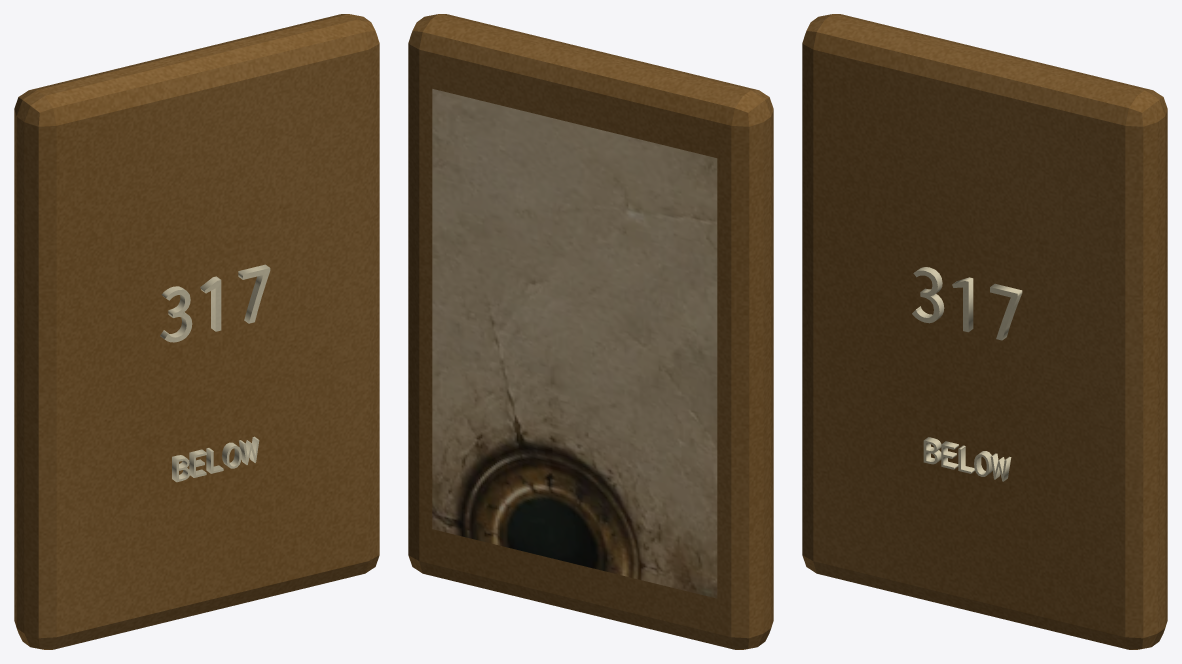
File: threshold-impression.glb
3 views of the same model, side by side, from view 1: azimuth 30°, elevation 25°; view 2: azimuth 150°, elevation 25°; view 3: azimuth 330°, elevation 25° (orthographic).
Parts seen in each view (by area): view 1: Threshold memory backing, Key_Threshold_Impression / Ivory enamel; view 2: Threshold original tag reverse, Threshold memory backing; view 3: Threshold memory backing, Key_Threshold_Impression / Ivory enamel.
Boxes of the visible parts, box(x1,y1,x2,y2) form: Threshold memory backing: box(14, 14, 379, 649); Key_Threshold_Impression / Ivory enamel: box(160, 264, 270, 482); Threshold original tag reverse: box(432, 89, 717, 598); Threshold memory backing: box(408, 14, 773, 649); Threshold memory backing: box(802, 14, 1167, 649); Key_Threshold_Impression / Ivory enamel: box(912, 267, 1022, 481).
Size of the model in its own units: 0.052 by 0.078 by 0.0093.
3 materials, 3 textured.
